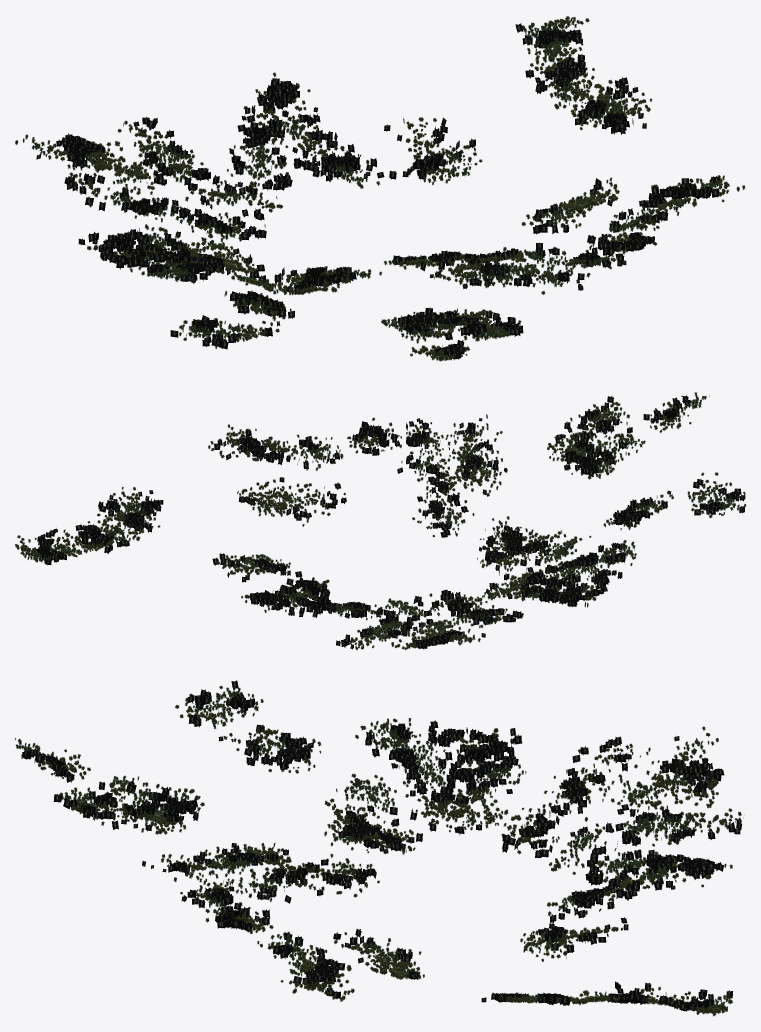
The model's file is mesh_enviroment_trees.glb.
The picture shows the model from 3 angles, top to bottom: view 1: azimuth 30°, elevation 25°; view 2: azimuth 150°, elevation 25°; view 3: azimuth 270°, elevation 25°; orthographic projection. The views are drawn at different scales.
Parts seen in each view (by area): view 1: mesh_enviroment_trees; view 2: mesh_enviroment_trees; view 3: mesh_enviroment_trees.
Part boxes in pixels (box(x1,y1,x2,y2)): mesh_enviroment_trees: box(15, 16, 745, 361); mesh_enviroment_trees: box(15, 392, 746, 649); mesh_enviroment_trees: box(15, 680, 743, 1016).
Bounding box in the file's own units: 734 × 88.97 × 729.
3 materials, 3 textured.
